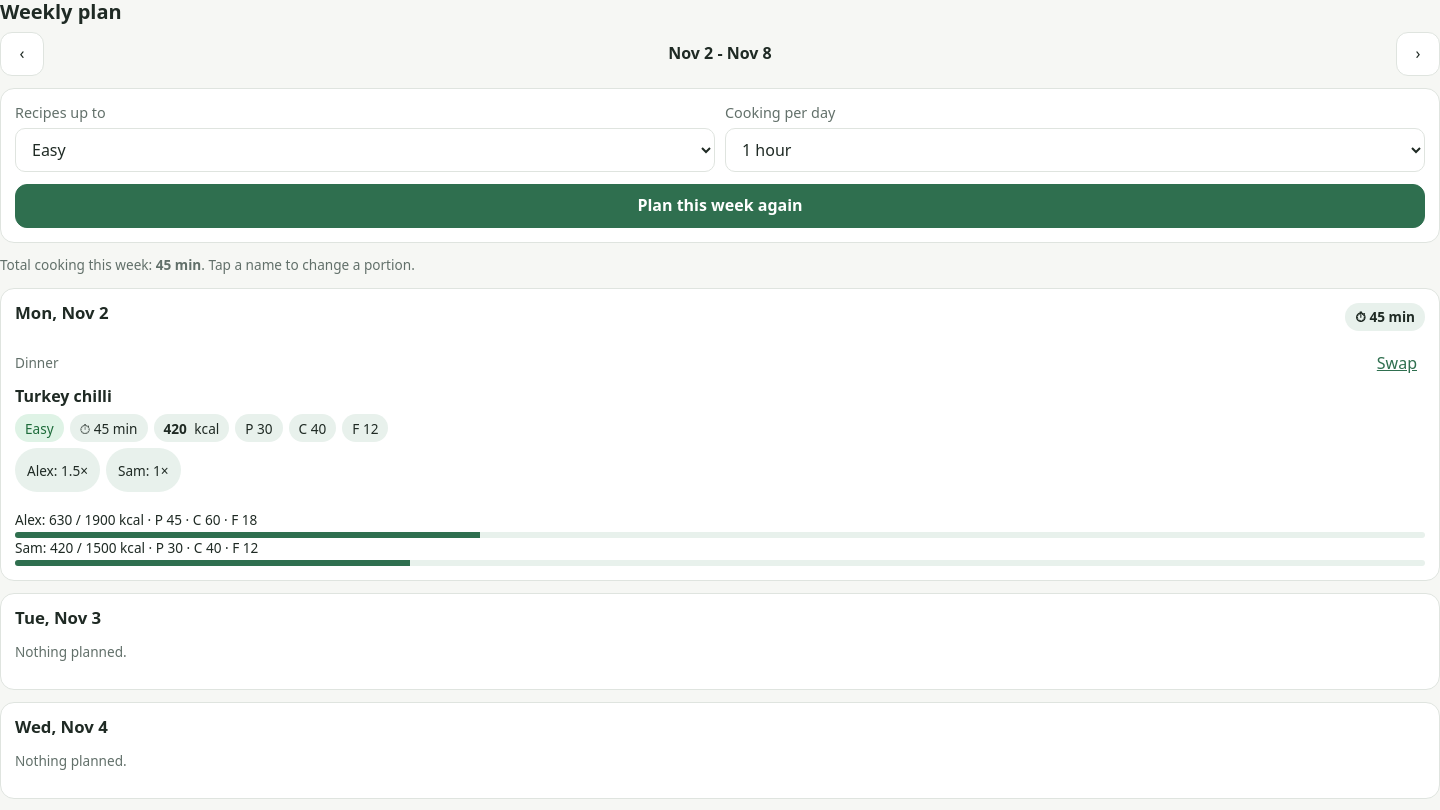
it: Plan › skips a meal for one person
Click the button with aria-label "Sam: 1 servings": (143, 470) [106, 448, 181, 492]
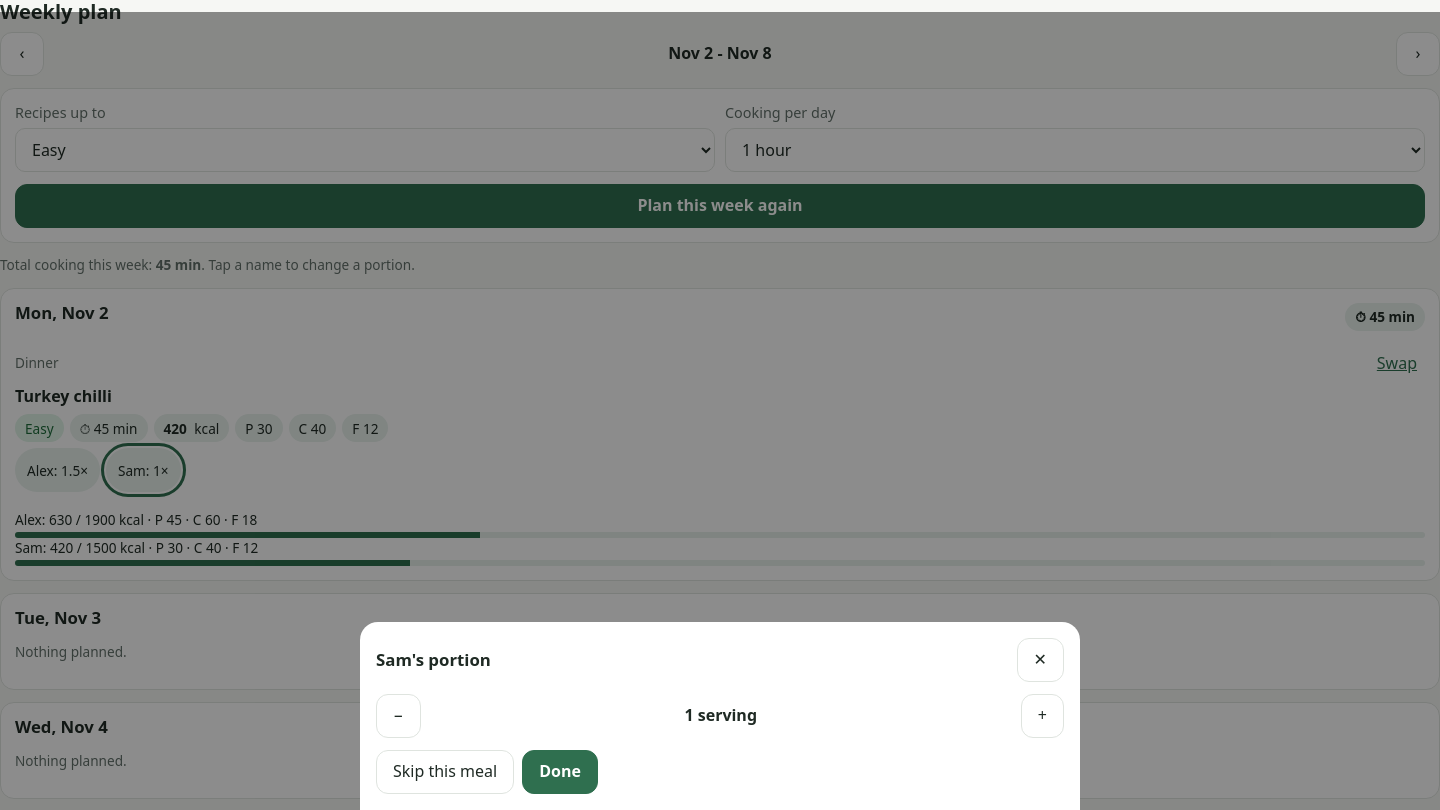
Click the button "Skip this meal": (445, 772) [376, 750, 514, 794]
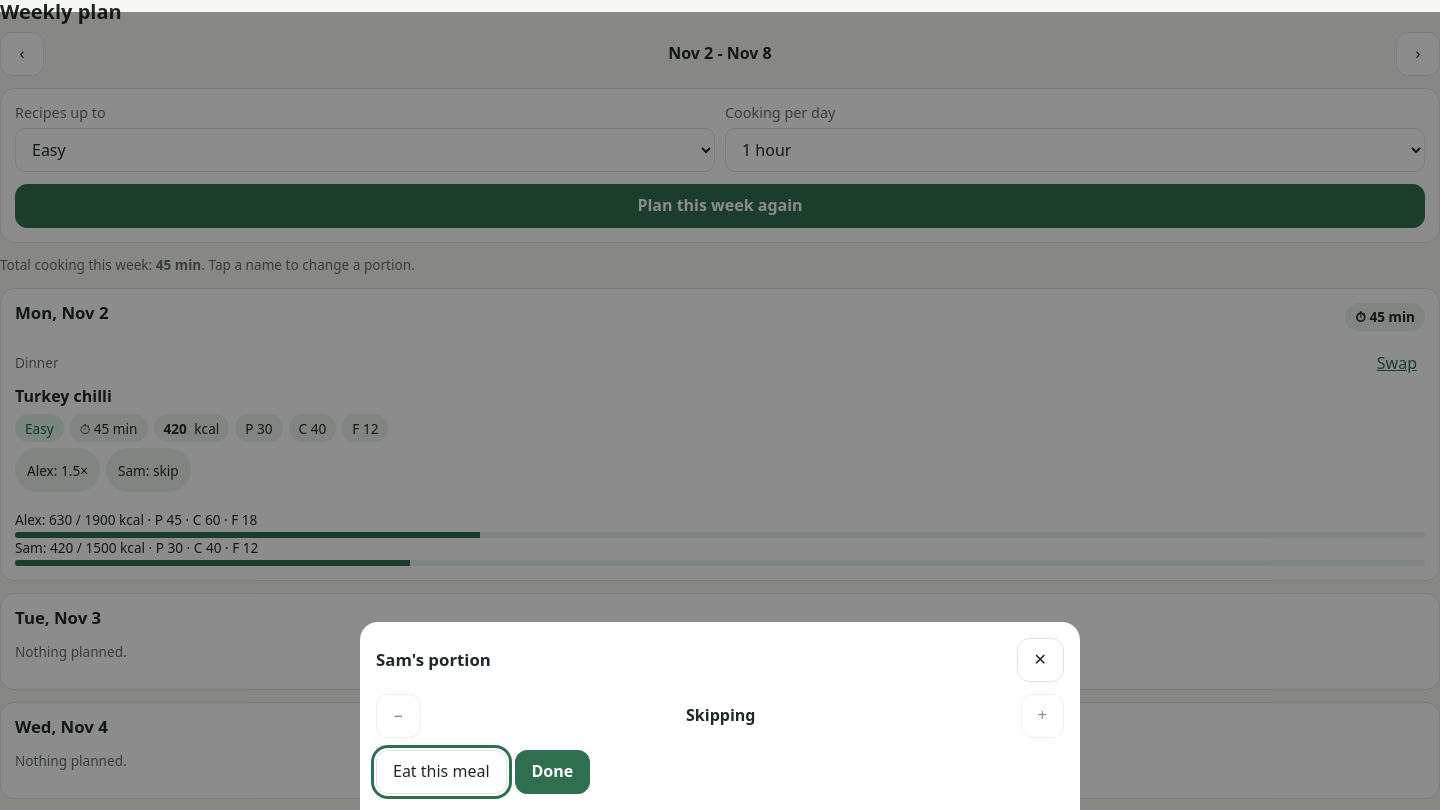
Now the text "Skipping" is shown, box [686, 704, 755, 728]
